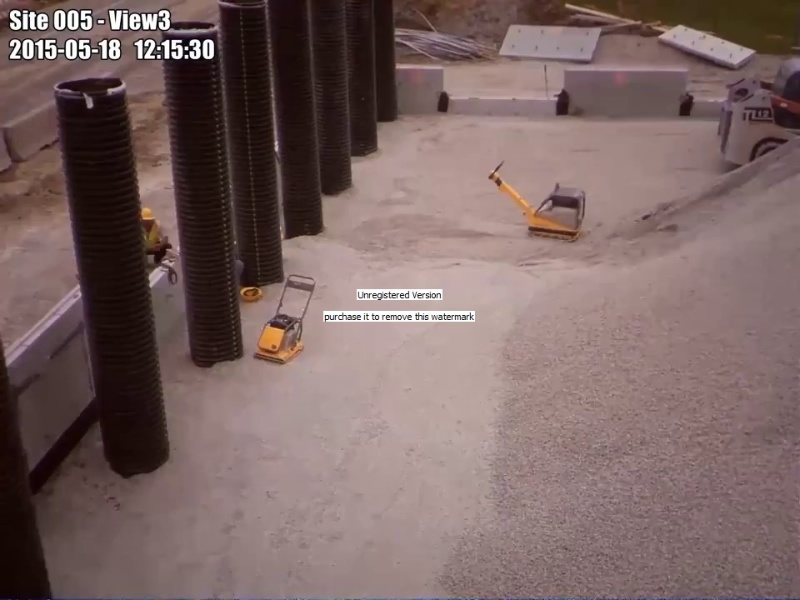columns: (53, 76, 175, 474), (161, 22, 248, 371), (219, 1, 287, 287), (269, 1, 327, 239), (307, 1, 353, 198), (347, 1, 380, 158), (373, 1, 398, 122)
hardhat: (240, 287, 264, 301), (140, 207, 157, 222)
person: (140, 207, 166, 264)
wall: (397, 64, 722, 123)
